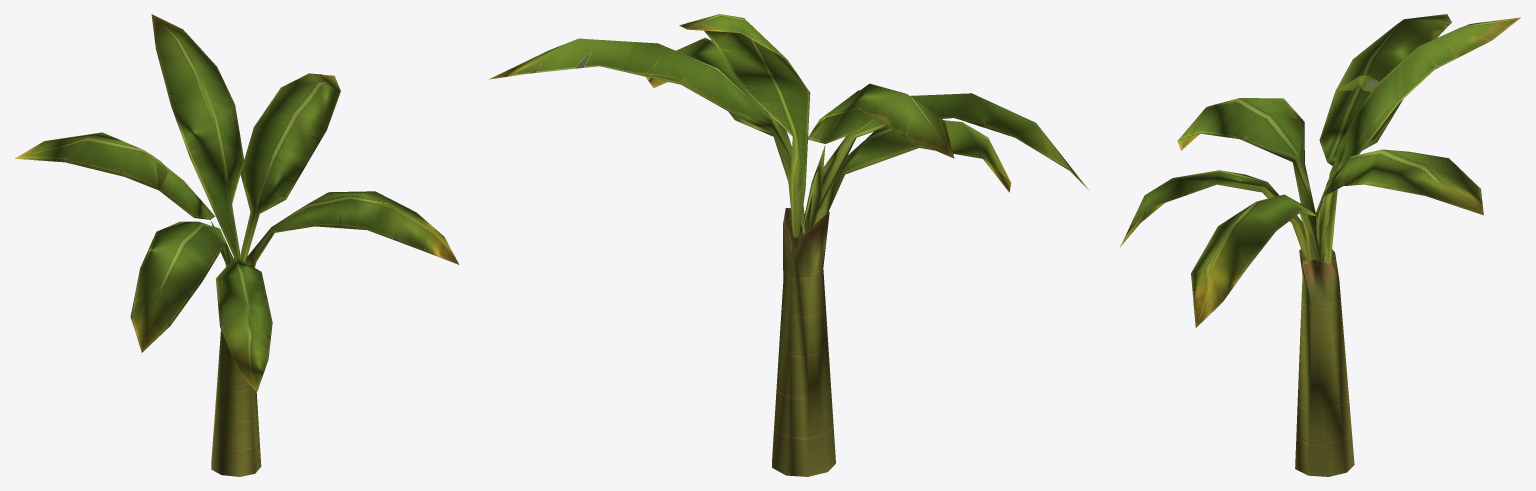
The model's file is Meshy_AI_Origami_Palm_Tree_0901070241_texture.fbx.
3 renders of one model, left to right at view 1: azimuth 30°, elevation 25°; view 2: azimuth 150°, elevation 25°; view 3: azimuth 270°, elevation 25°, orthographic. The views are drawn at different scales.
Visible parts, largest first — view 1: mesh_node; view 2: mesh_node; view 3: mesh_node.
Boxes of the visible parts, x1=… form: mesh_node: x1=15, y1=14, x2=459, y2=476; mesh_node: x1=489, y1=14, x2=1089, y2=476; mesh_node: x1=1120, y1=14, x2=1520, y2=476.
Bounding box in the file's own units: 271 × 300 × 244.
1 material, 1 textured.
